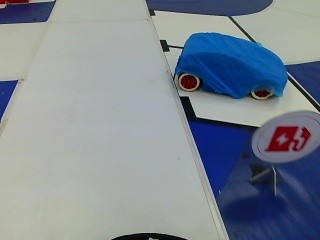battery: (265, 120, 315, 158)
car: (165, 32, 290, 102)
